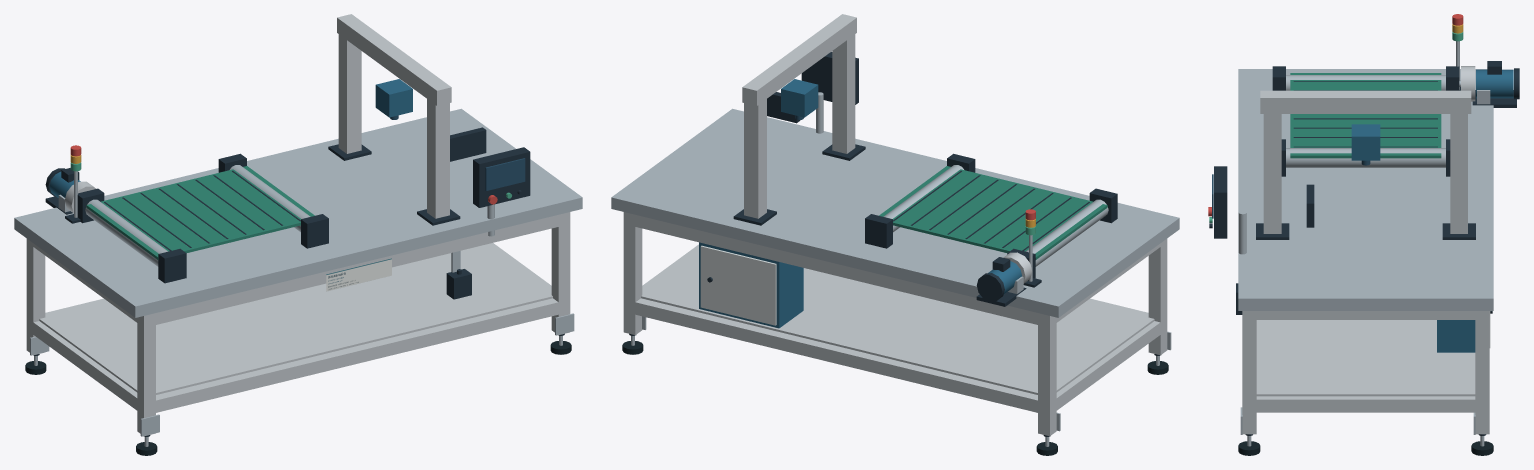
The model's file is barcode-verifier-cell.glb.
3 views of the same model, side by side, from view 1: azimuth 30°, elevation 25°; view 2: azimuth 150°, elevation 25°; view 3: azimuth 270°, elevation 25° (orthographic). The views are drawn at different scales.
Visible parts, largest first — view 1: ClosedMachineBed_28, LowerShelf_29, Belt_48, SlottedExtrusion_22, SlottedExtrusion_23, SlottedExtrusion_75, SlottedExtrusion_71, SlottedExtrusion_73, SlottedExtrusion_8, SlottedExtrusion_24, ConsoleBack_34, SlottedExtrusion_18 (+10 smaller); view 2: ClosedMachineBed_28, LowerShelf_29, Belt_48, SlottedExtrusion_20, SlottedExtrusion_21, BackDoor_31, SlottedExtrusion_75, SlottedExtrusion_73, SlottedExtrusion_71, SlottedExtrusion_3, SlottedExtrusion_13, Cabinet_30 (+8 smaller); view 3: ClosedMachineBed_28, LowerShelf_29, Belt_48, SlottedExtrusion_75, SlottedExtrusion_26, SlottedExtrusion_73, BeltRoller_52, SlottedExtrusion_71, SlottedExtrusion_27, SlottedExtrusion_18, SlottedExtrusion_13, Cabinet_30 (+12 smaller).
Part boxes in pixels (bbox=[...]): ClosedMachineBed_28: bbox=[14, 108, 582, 317]; LowerShelf_29: bbox=[39, 244, 552, 394]; Belt_48: bbox=[86, 166, 314, 259]; SlottedExtrusion_22: bbox=[150, 298, 564, 413]; SlottedExtrusion_23: bbox=[150, 213, 564, 326]; SlottedExtrusion_75: bbox=[337, 14, 451, 105]; SlottedExtrusion_71: bbox=[338, 27, 361, 153]; SlottedExtrusion_73: bbox=[427, 91, 449, 218]; SlottedExtrusion_8: bbox=[137, 313, 155, 436]; SlottedExtrusion_24: bbox=[33, 321, 137, 410]; ConsoleBack_34: bbox=[473, 147, 530, 207]; SlottedExtrusion_18: bbox=[551, 212, 570, 335]; ClosedMachineBed_28: bbox=[611, 108, 1179, 317]; LowerShelf_29: bbox=[641, 248, 1154, 394]; Belt_48: bbox=[879, 166, 1107, 259]; SlottedExtrusion_20: bbox=[629, 298, 1043, 413]; SlottedExtrusion_21: bbox=[635, 215, 1043, 324]; BackDoor_31: bbox=[700, 245, 776, 325]; SlottedExtrusion_75: bbox=[742, 14, 856, 105]; SlottedExtrusion_73: bbox=[832, 27, 855, 153]; SlottedExtrusion_71: bbox=[744, 94, 766, 218]; SlottedExtrusion_3: bbox=[1038, 313, 1056, 436]; SlottedExtrusion_13: bbox=[623, 212, 642, 335]; Cabinet_30: bbox=[699, 242, 803, 328]; ClosedMachineBed_28: bbox=[1238, 69, 1493, 310]; LowerShelf_29: bbox=[1256, 320, 1475, 396]; Belt_48: bbox=[1290, 73, 1441, 158]; SlottedExtrusion_75: bbox=[1260, 90, 1471, 113]; SlottedExtrusion_26: bbox=[1249, 396, 1482, 412]; SlottedExtrusion_73: bbox=[1263, 106, 1281, 233]; BeltRoller_52: bbox=[1286, 148, 1445, 167]; SlottedExtrusion_71: bbox=[1450, 106, 1467, 233]; SlottedExtrusion_27: bbox=[1249, 311, 1481, 319]; SlottedExtrusion_18: bbox=[1242, 311, 1256, 434]; SlottedExtrusion_13: bbox=[1475, 311, 1489, 434]; Cabinet_30: bbox=[1437, 320, 1475, 352].
Size of the model in its own units: 2.45 by 1.49 by 1.4.
Materials: 12 (1 with a texture image).
